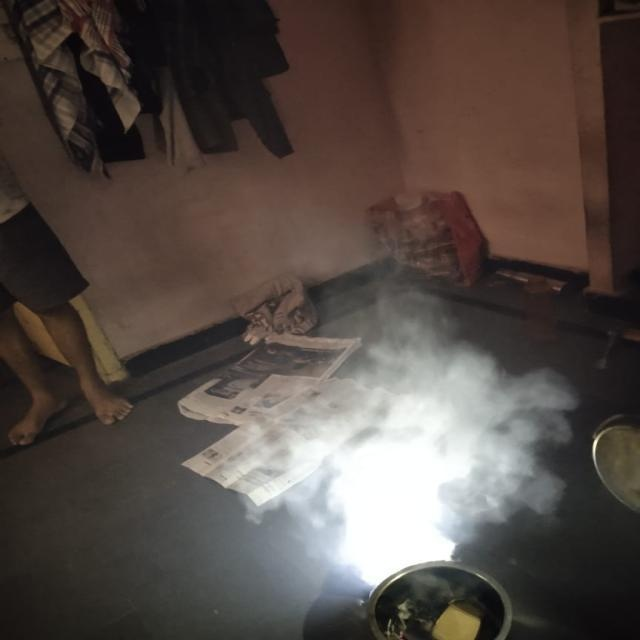smoke: (273, 374, 469, 583)
